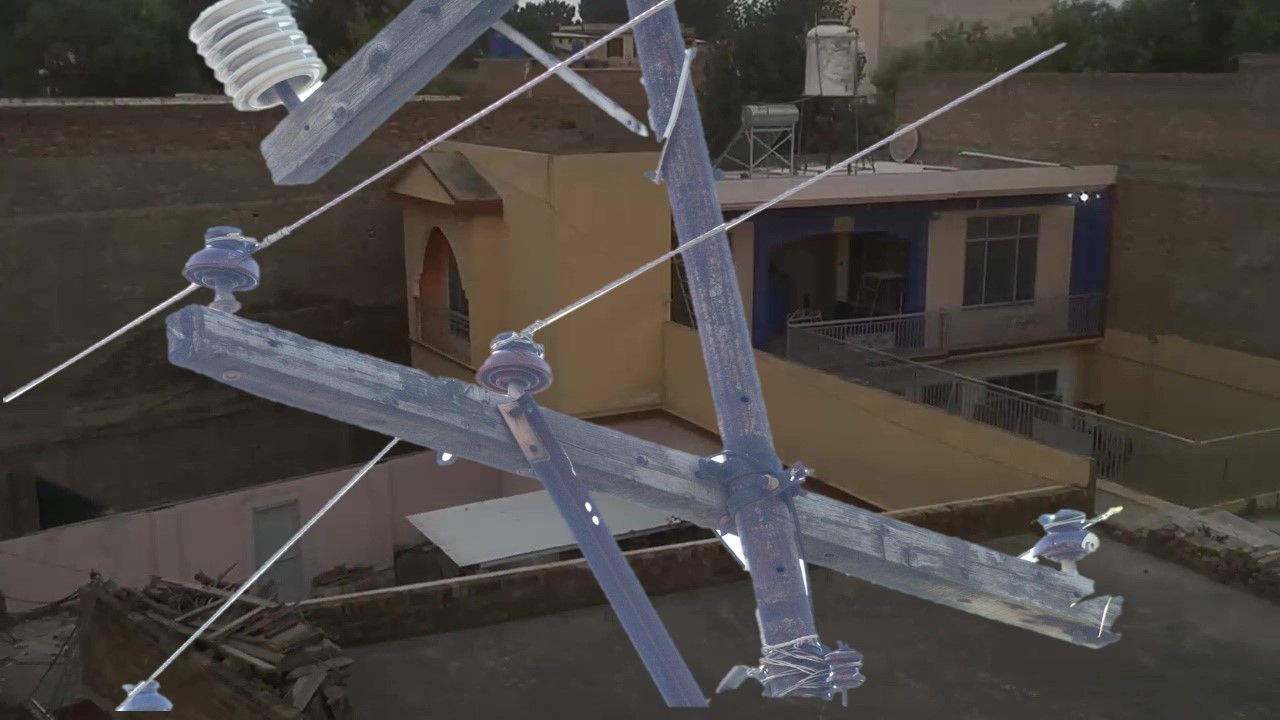defect_pin: (1022, 491, 1117, 568)
insulator_pin: (174, 214, 274, 303), (473, 322, 561, 407)
